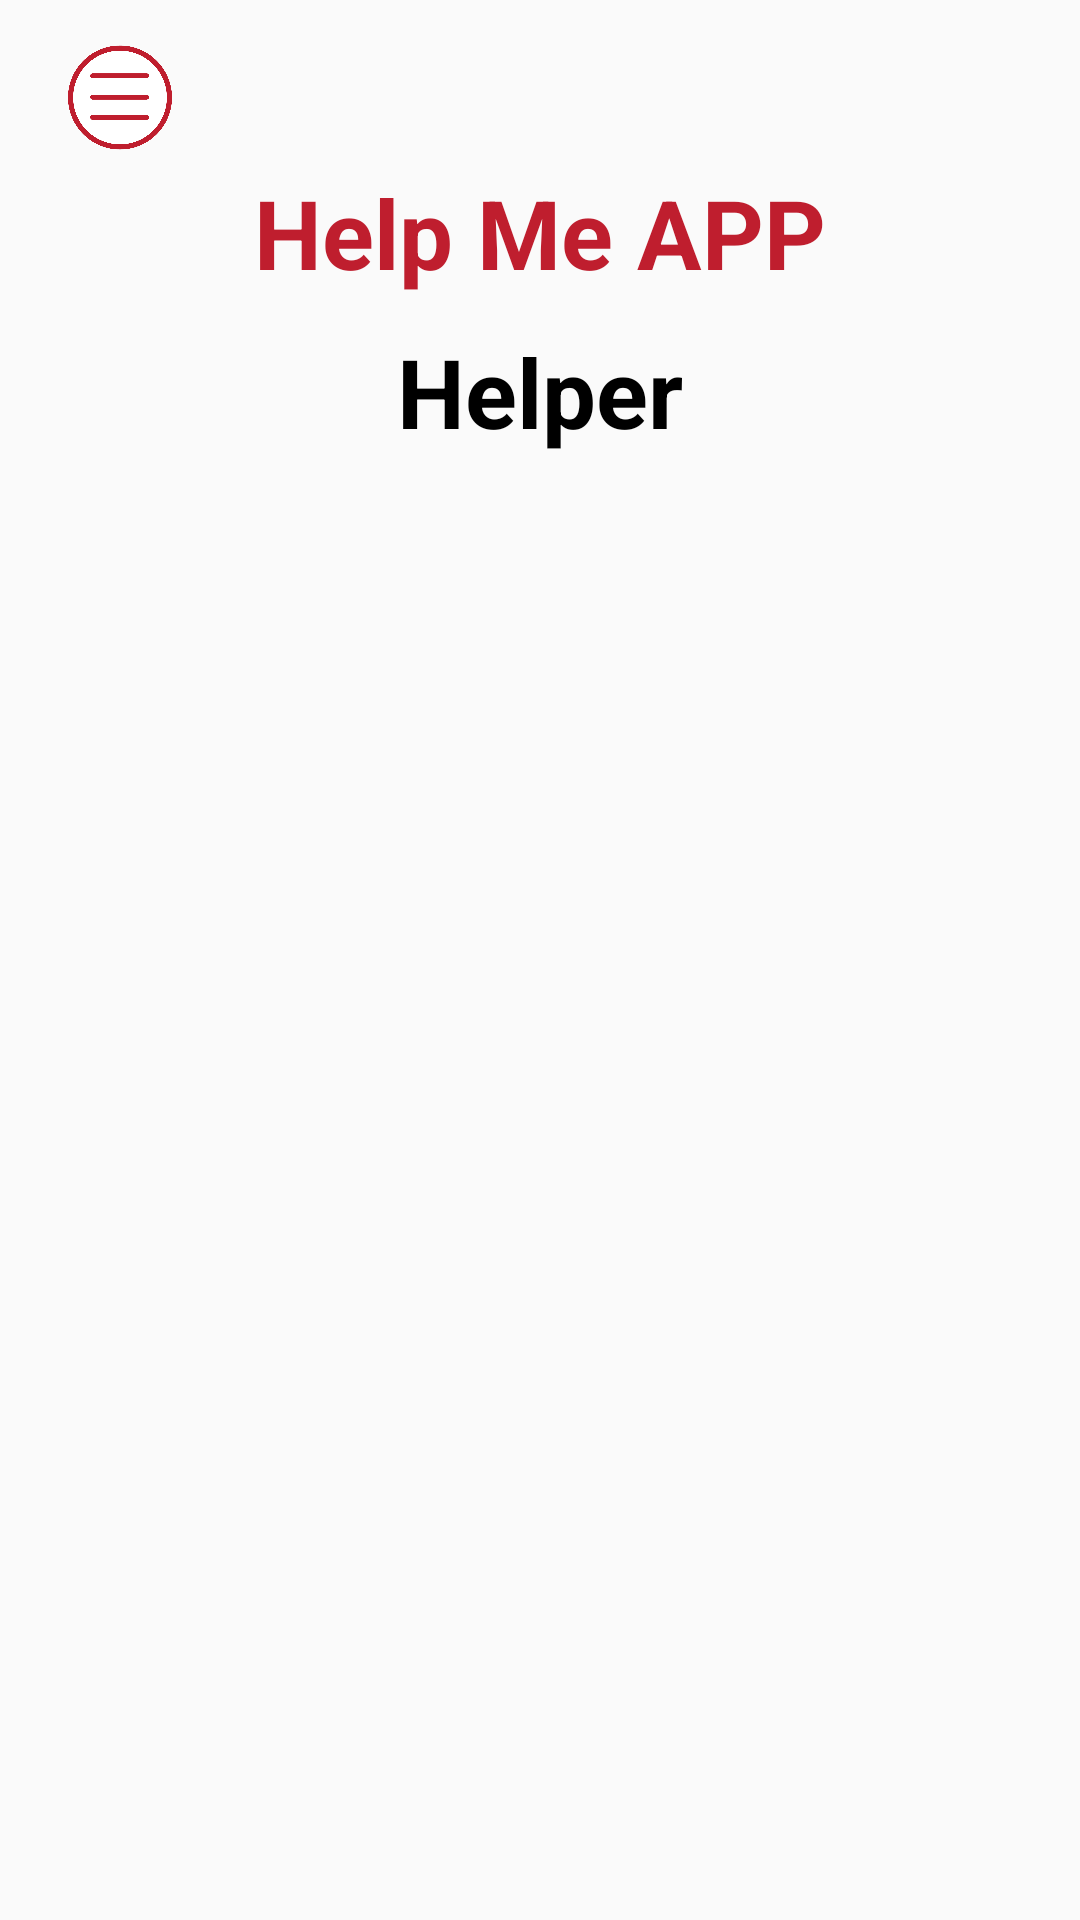

Icon bounding boxes for this 1080×1920 phone screenshot, format box=[x1, y1, x2, y2]:
menu: box=[68, 45, 172, 150]
